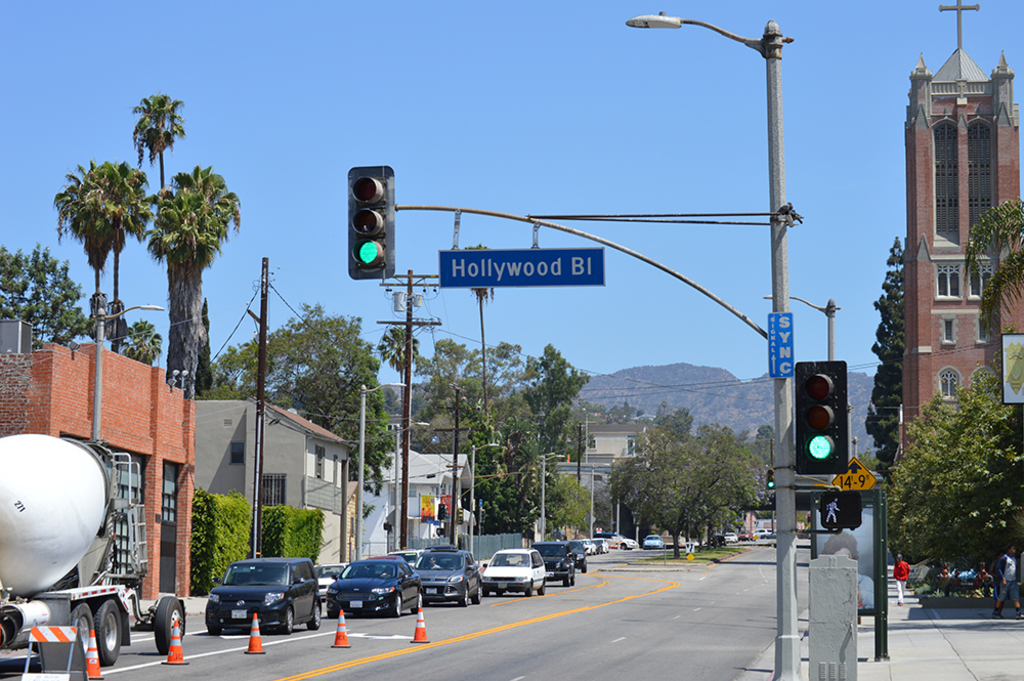green_light: (349, 167, 395, 275), (799, 366, 844, 468)
